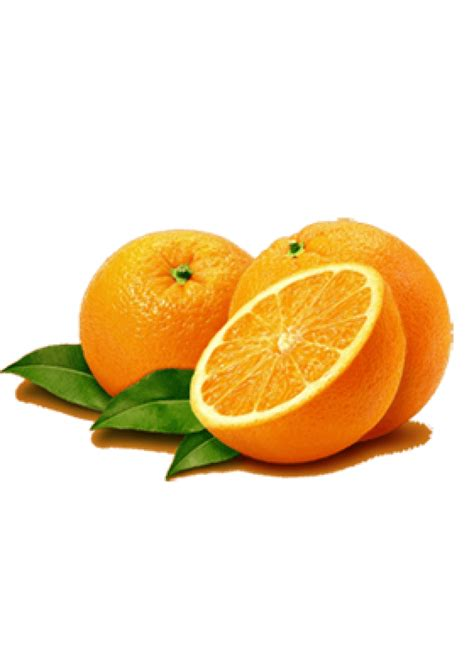orange: (77, 226, 248, 405), (225, 219, 453, 331)
